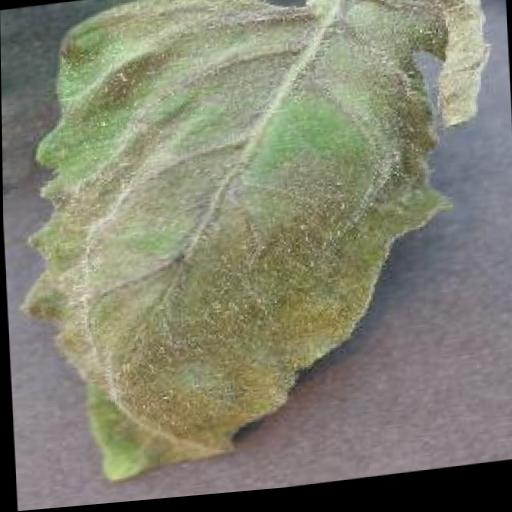Late Blight: (0, 0, 511, 492)
